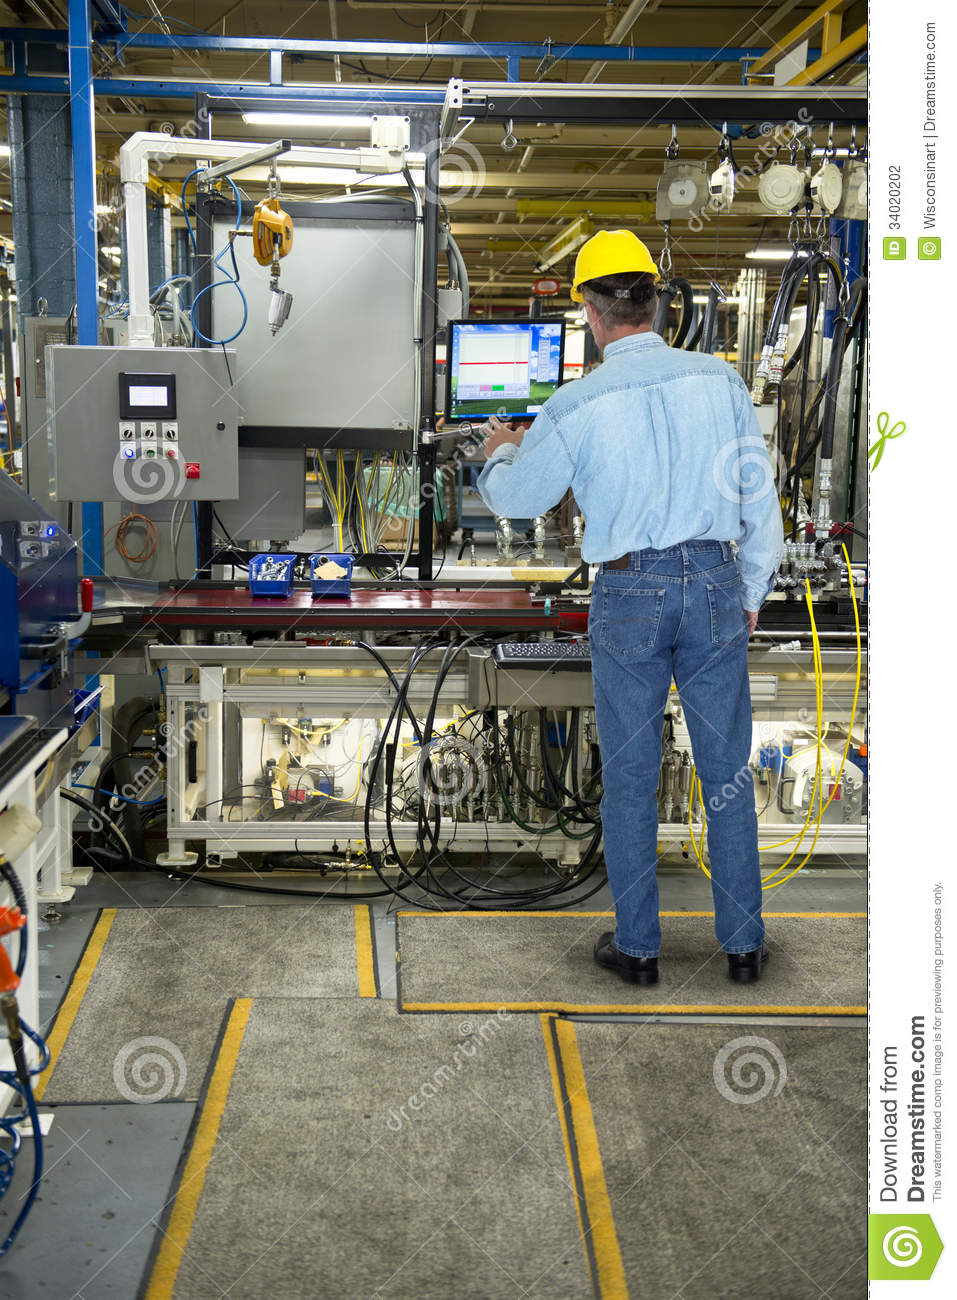person: (483, 224, 782, 987)
